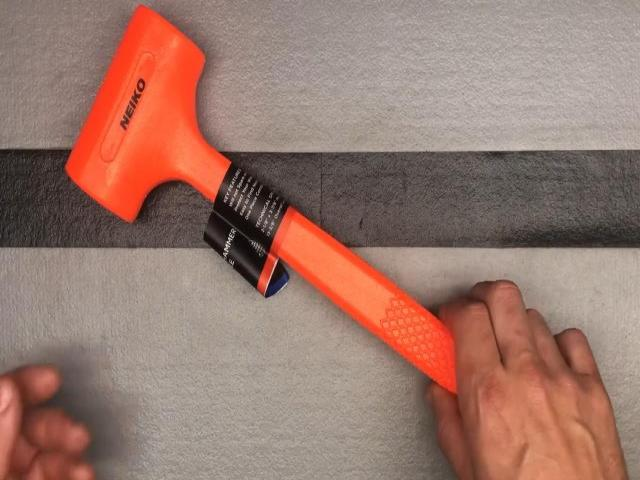hammer: (66, 6, 601, 472)
